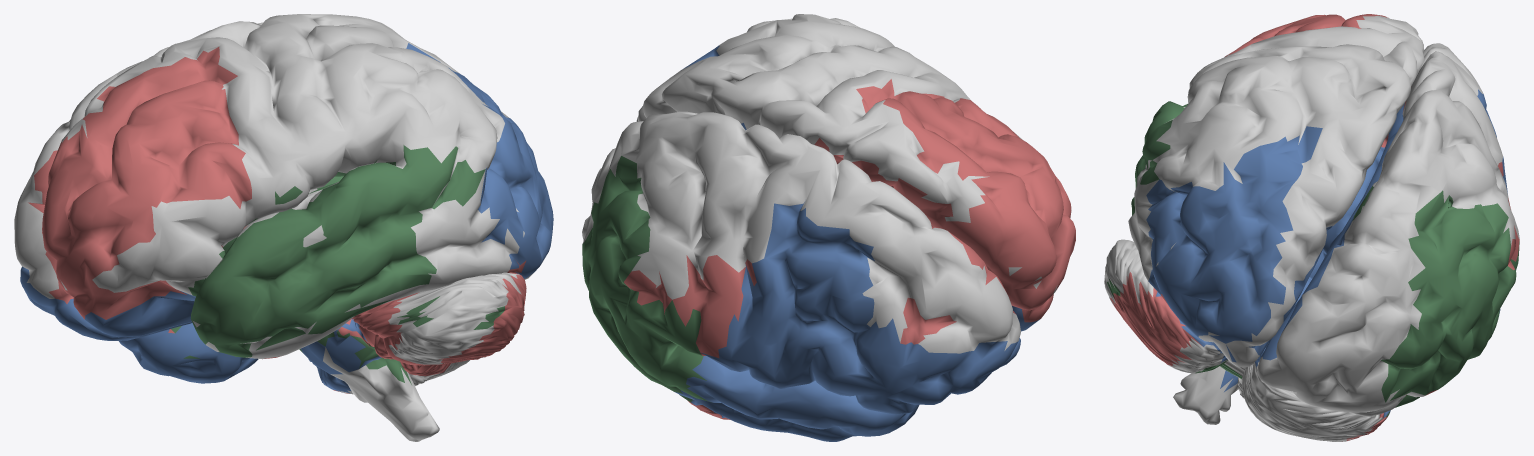
The model's file is model-of-the-brain-upload-ap-psychology.fbx.
3 views of the same model, side by side, from view 1: azimuth 30°, elevation 25°; view 2: azimuth 150°, elevation 25°; view 3: azimuth 270°, elevation 25° (orthographic). The views are drawn at different scales.
Visible parts, largest first — view 1: default; view 2: default; view 3: default.
Part boxes in pixels (<box>): default: <box>14,14,553,441</box>; default: <box>582,14,1075,441</box>; default: <box>1104,14,1519,441</box>.
Size of the model in its own units: 6.58 by 5.13 by 5.45.
